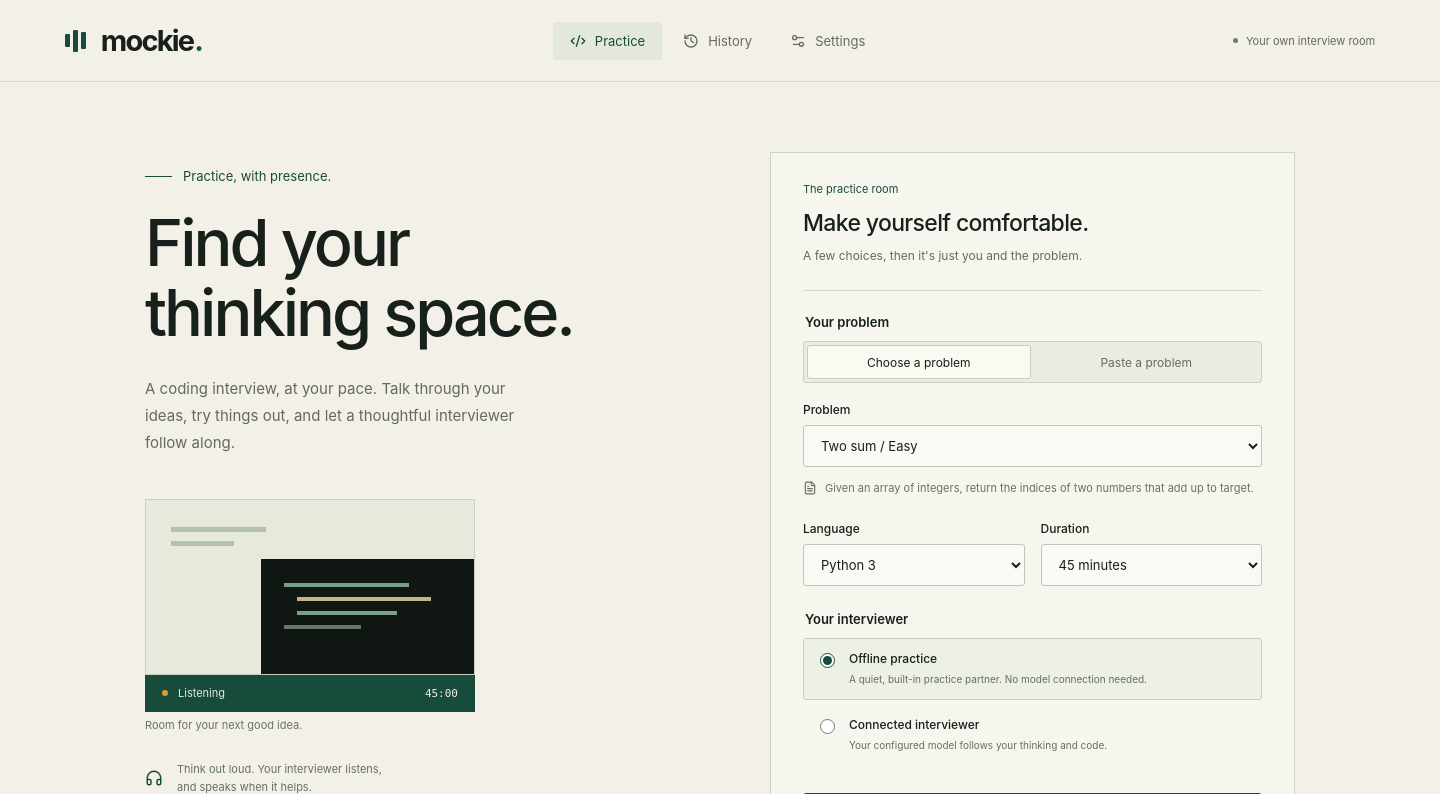
Test: primary interview flow › lets custom prompts enter the room and saves model settings
The width and height of the screenshot is (1440, 794).
Click the button "Settings". click: point(828, 40)
box: [773,22,882,60]
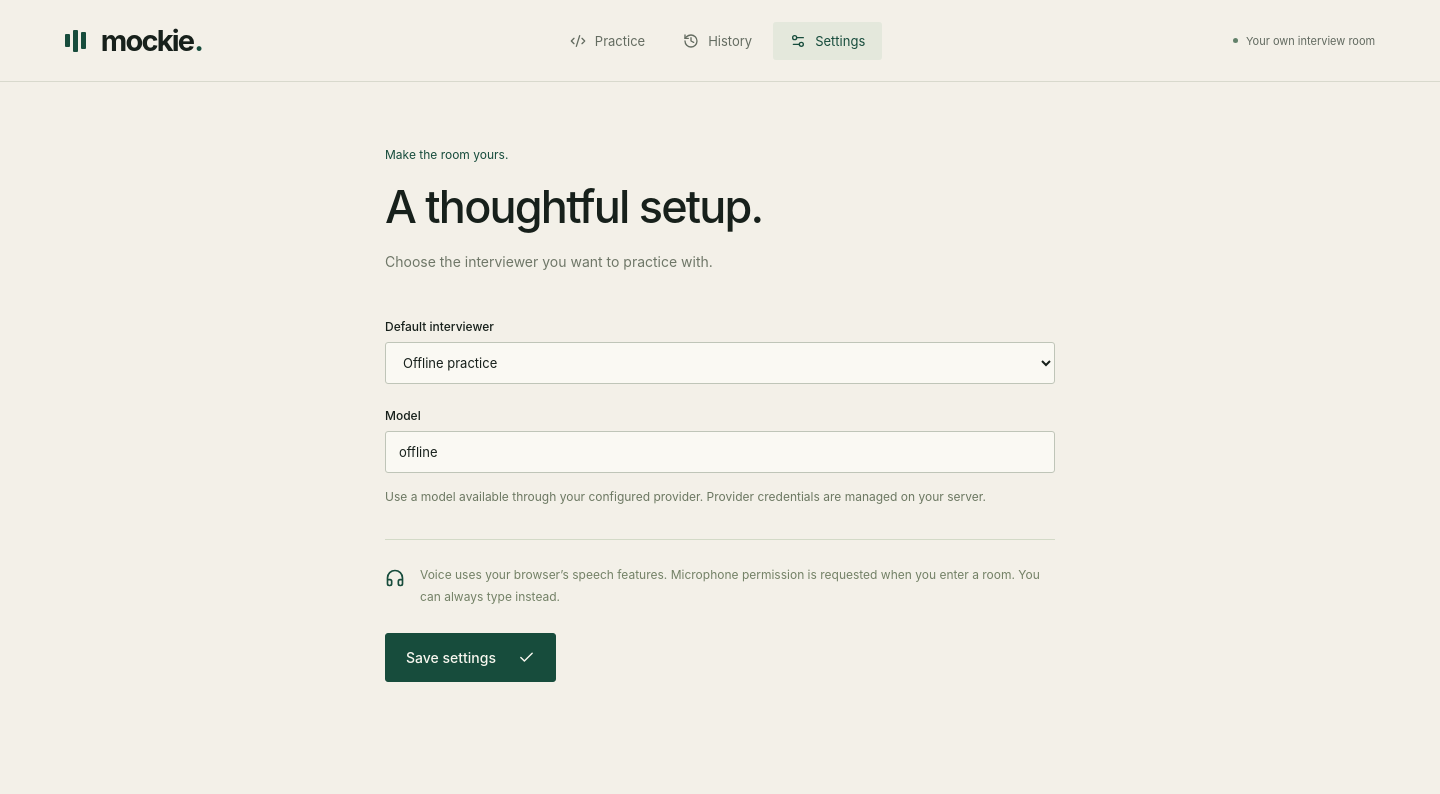
Replace the text in the field labelled "Model" with "chatgpt/gpt-5.4". click: point(720, 452)
box: [385,431,1055,473]
Click the button "Save settings". click: point(470, 657)
box: [385,633,556,682]
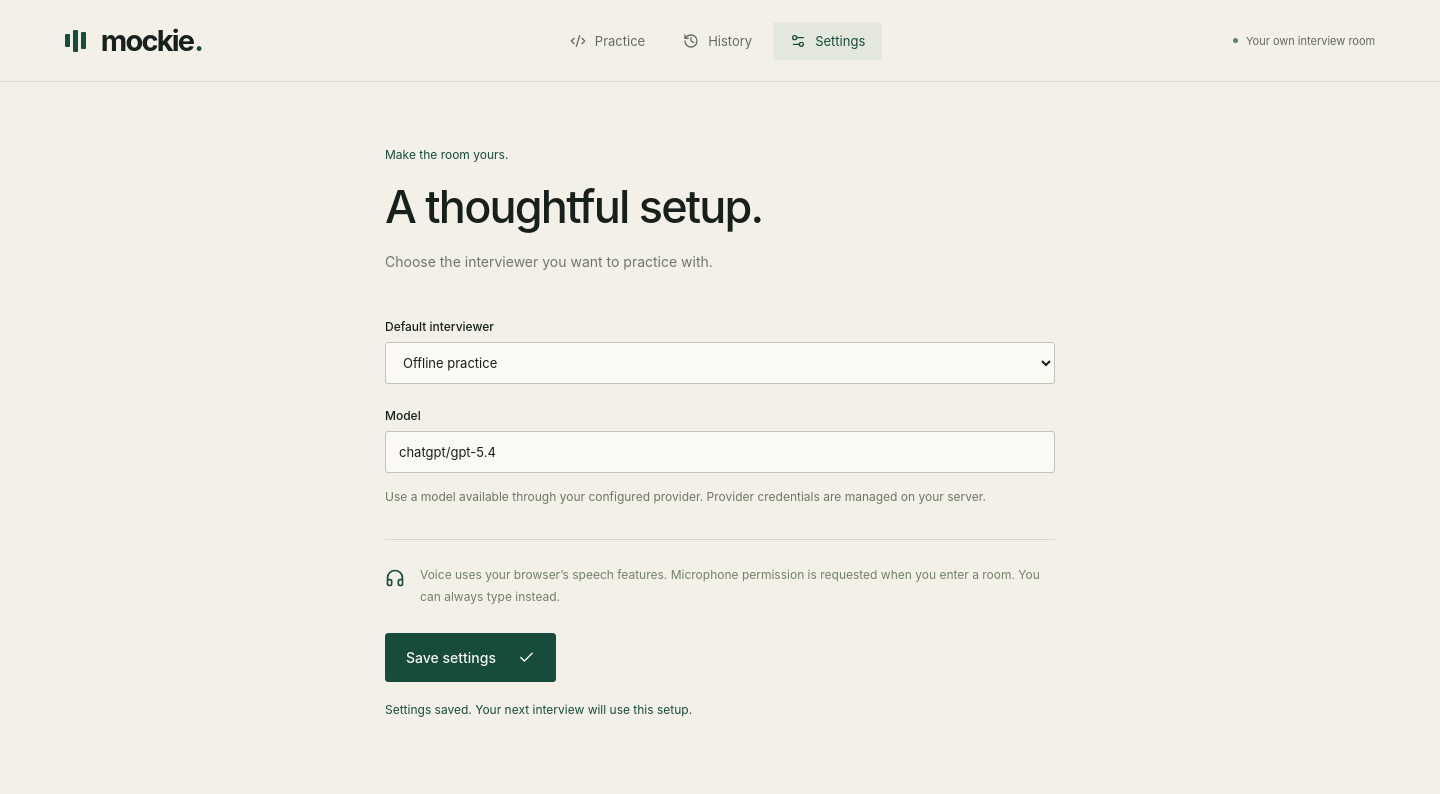
Expected: the message shows "Settings saved", [385,702,692,717]
Click the button "Practice". click: point(607, 40)
box: [553,22,662,60]
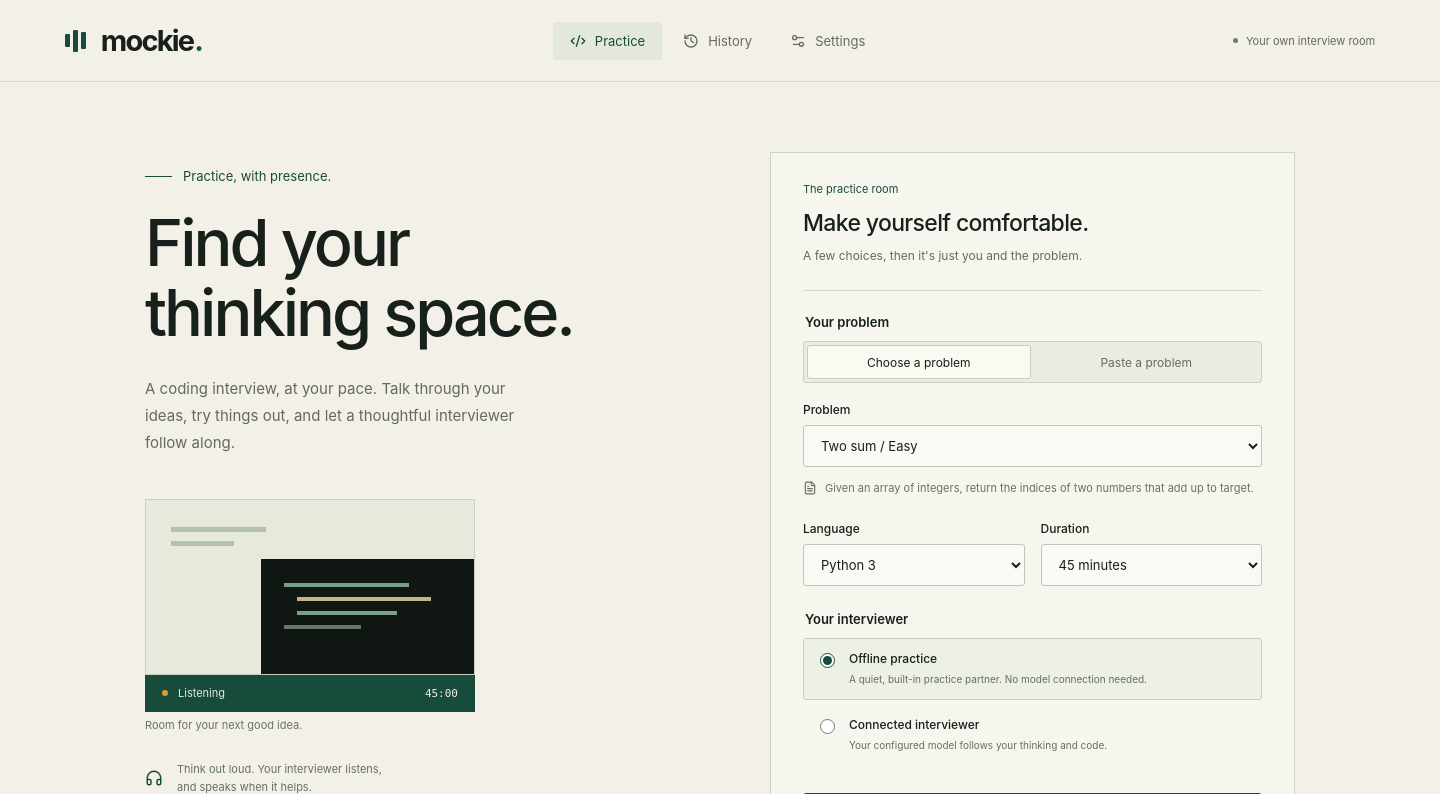
Click the button "Paste a problem". click: point(1146, 362)
box: [1034,345,1258,379]
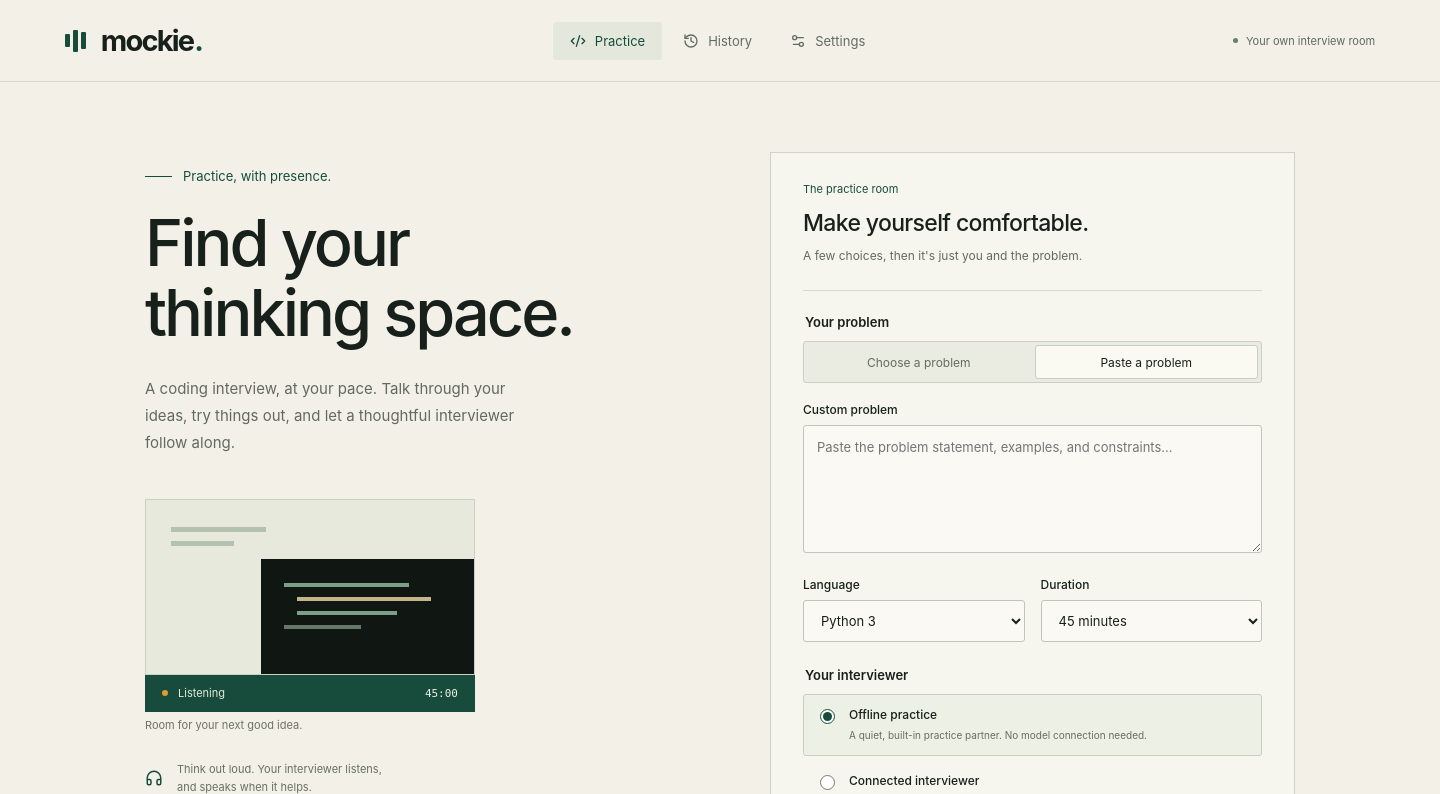
Type "Write a function to count unique words." into the text box labelled "Custom problem". click: point(1032, 489)
box: [803,425,1262,553]
(page scrolled)
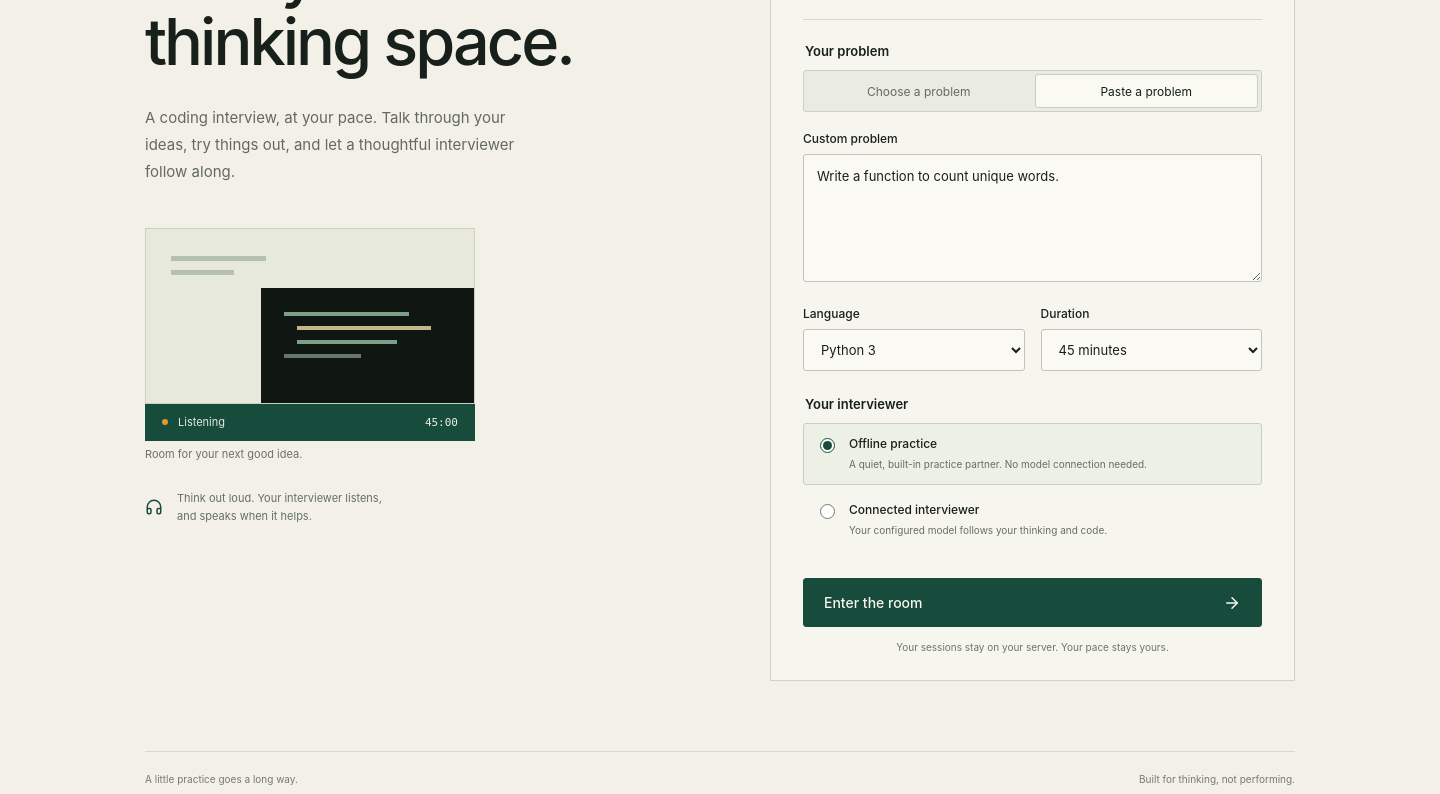
Click the button "Enter the room". click: point(873, 603)
box: [803,578,1262,627]
(page scrolled)
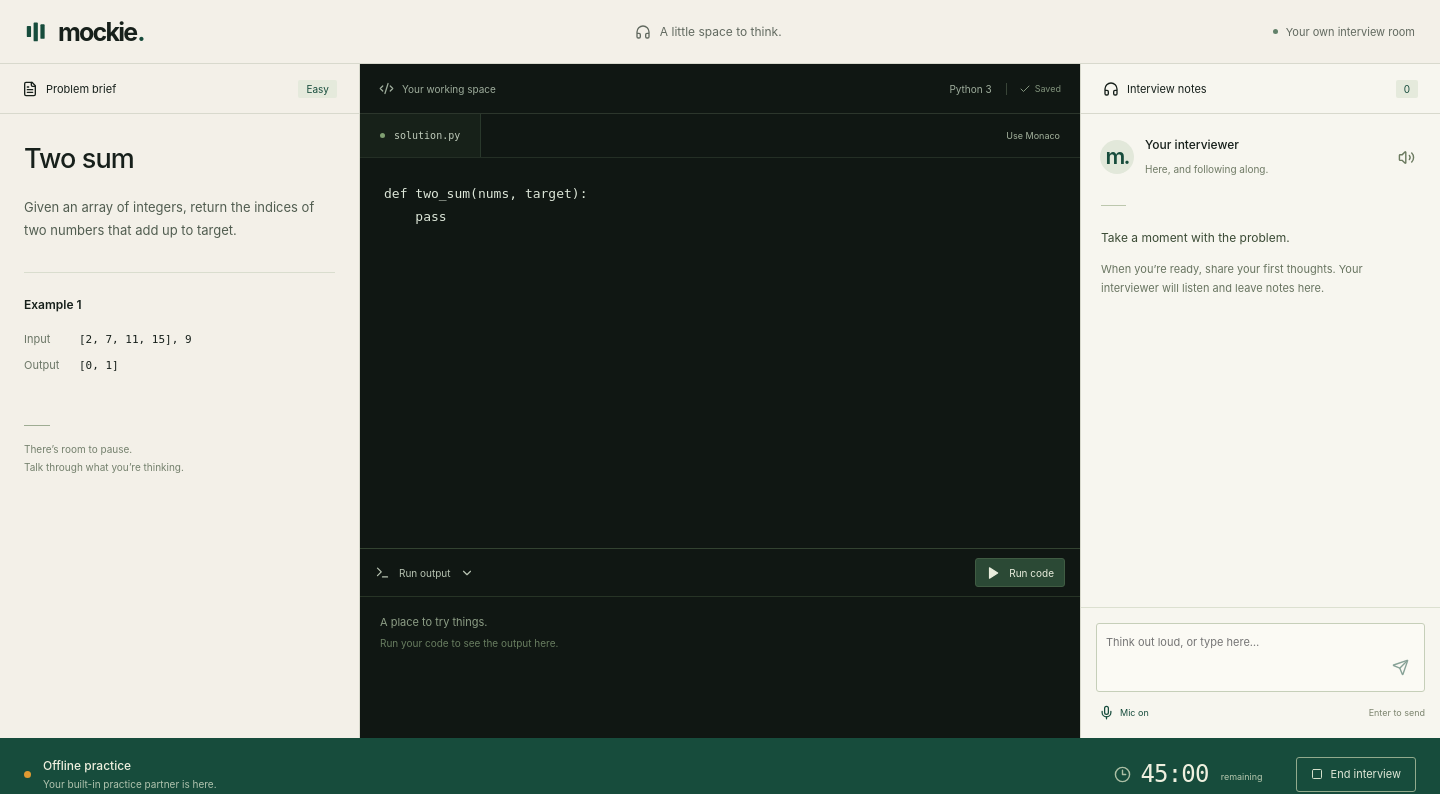
Expected: the heading "Two sum" is shown, [24,142,134,175]
